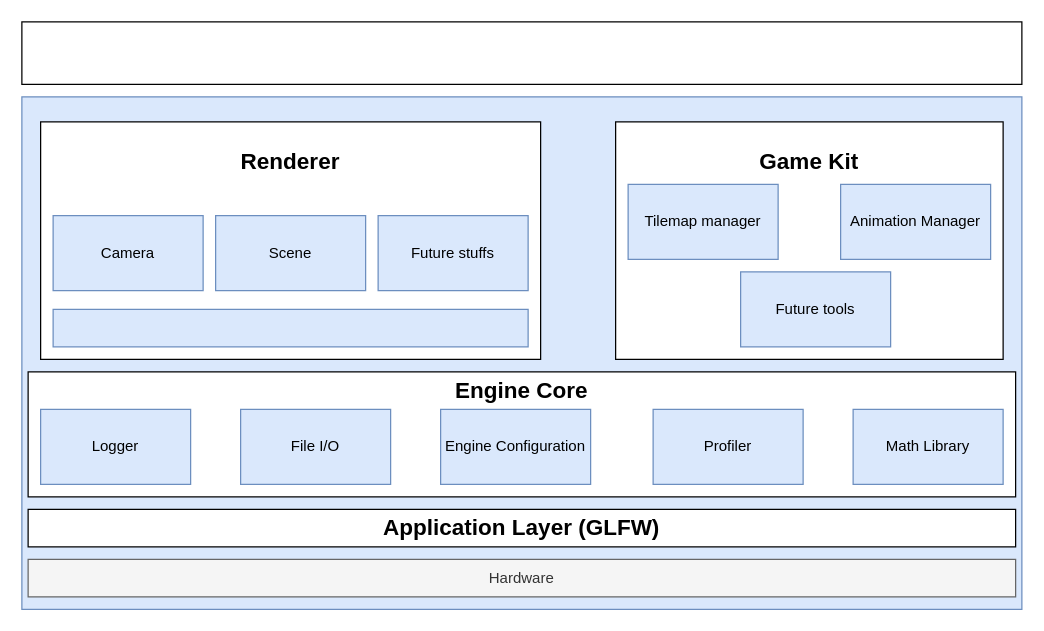
Image size: 1044x631. Some labels were removed from this diagram. Here are the shapes that lost their labels. From the top down, the centre of each, then its label:
the point at 521,52: Game Logic
the point at 290,327: Opengl
